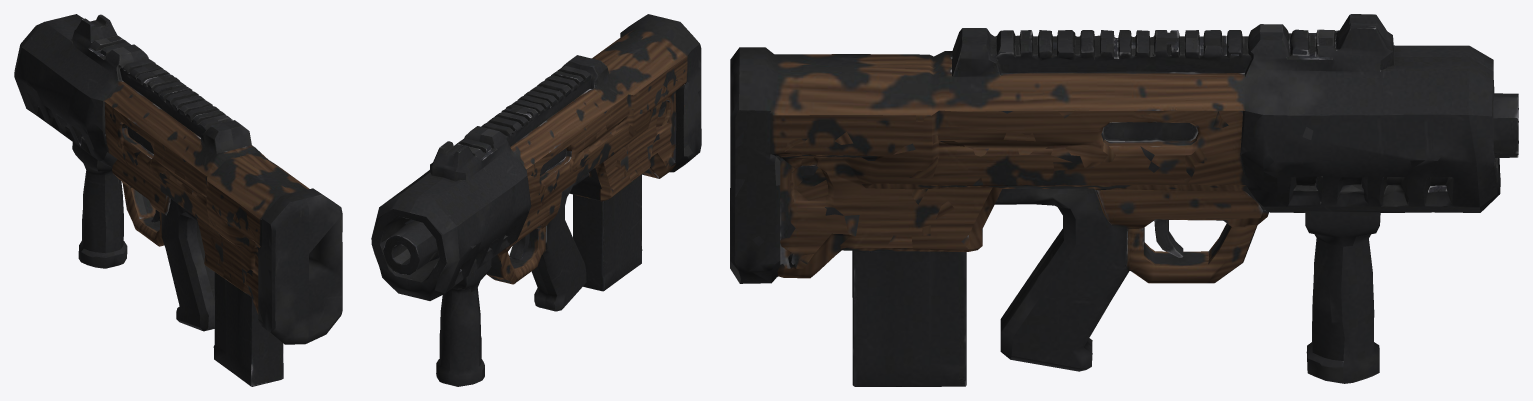
Rendered from drum_shotgun.glb.
The picture shows the model from 3 angles, left to right: view 1: azimuth 30°, elevation 25°; view 2: azimuth 150°, elevation 25°; view 3: azimuth 270°, elevation 25°; orthographic projection. The views are drawn at different scales.
Visible parts, largest first — view 1: drum_shotgun_world; view 2: drum_shotgun_world; view 3: drum_shotgun_world.
Boxes of the visible parts, left/top/right/bottom form: drum_shotgun_world: left=14, top=14, right=342, bottom=386; drum_shotgun_world: left=371, top=14, right=701, bottom=386; drum_shotgun_world: left=730, top=14, right=1518, bottom=386.
Size of the model in its own units: 0.1631 by 0.4243 by 0.8533.
1 material, 1 textured.
